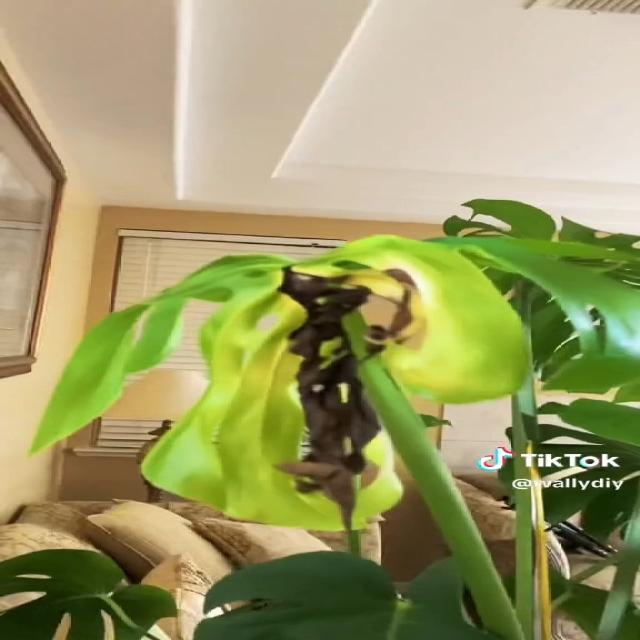lisc_suchy: (39, 236, 542, 531)
roslina_sucha: (33, 199, 640, 640)
